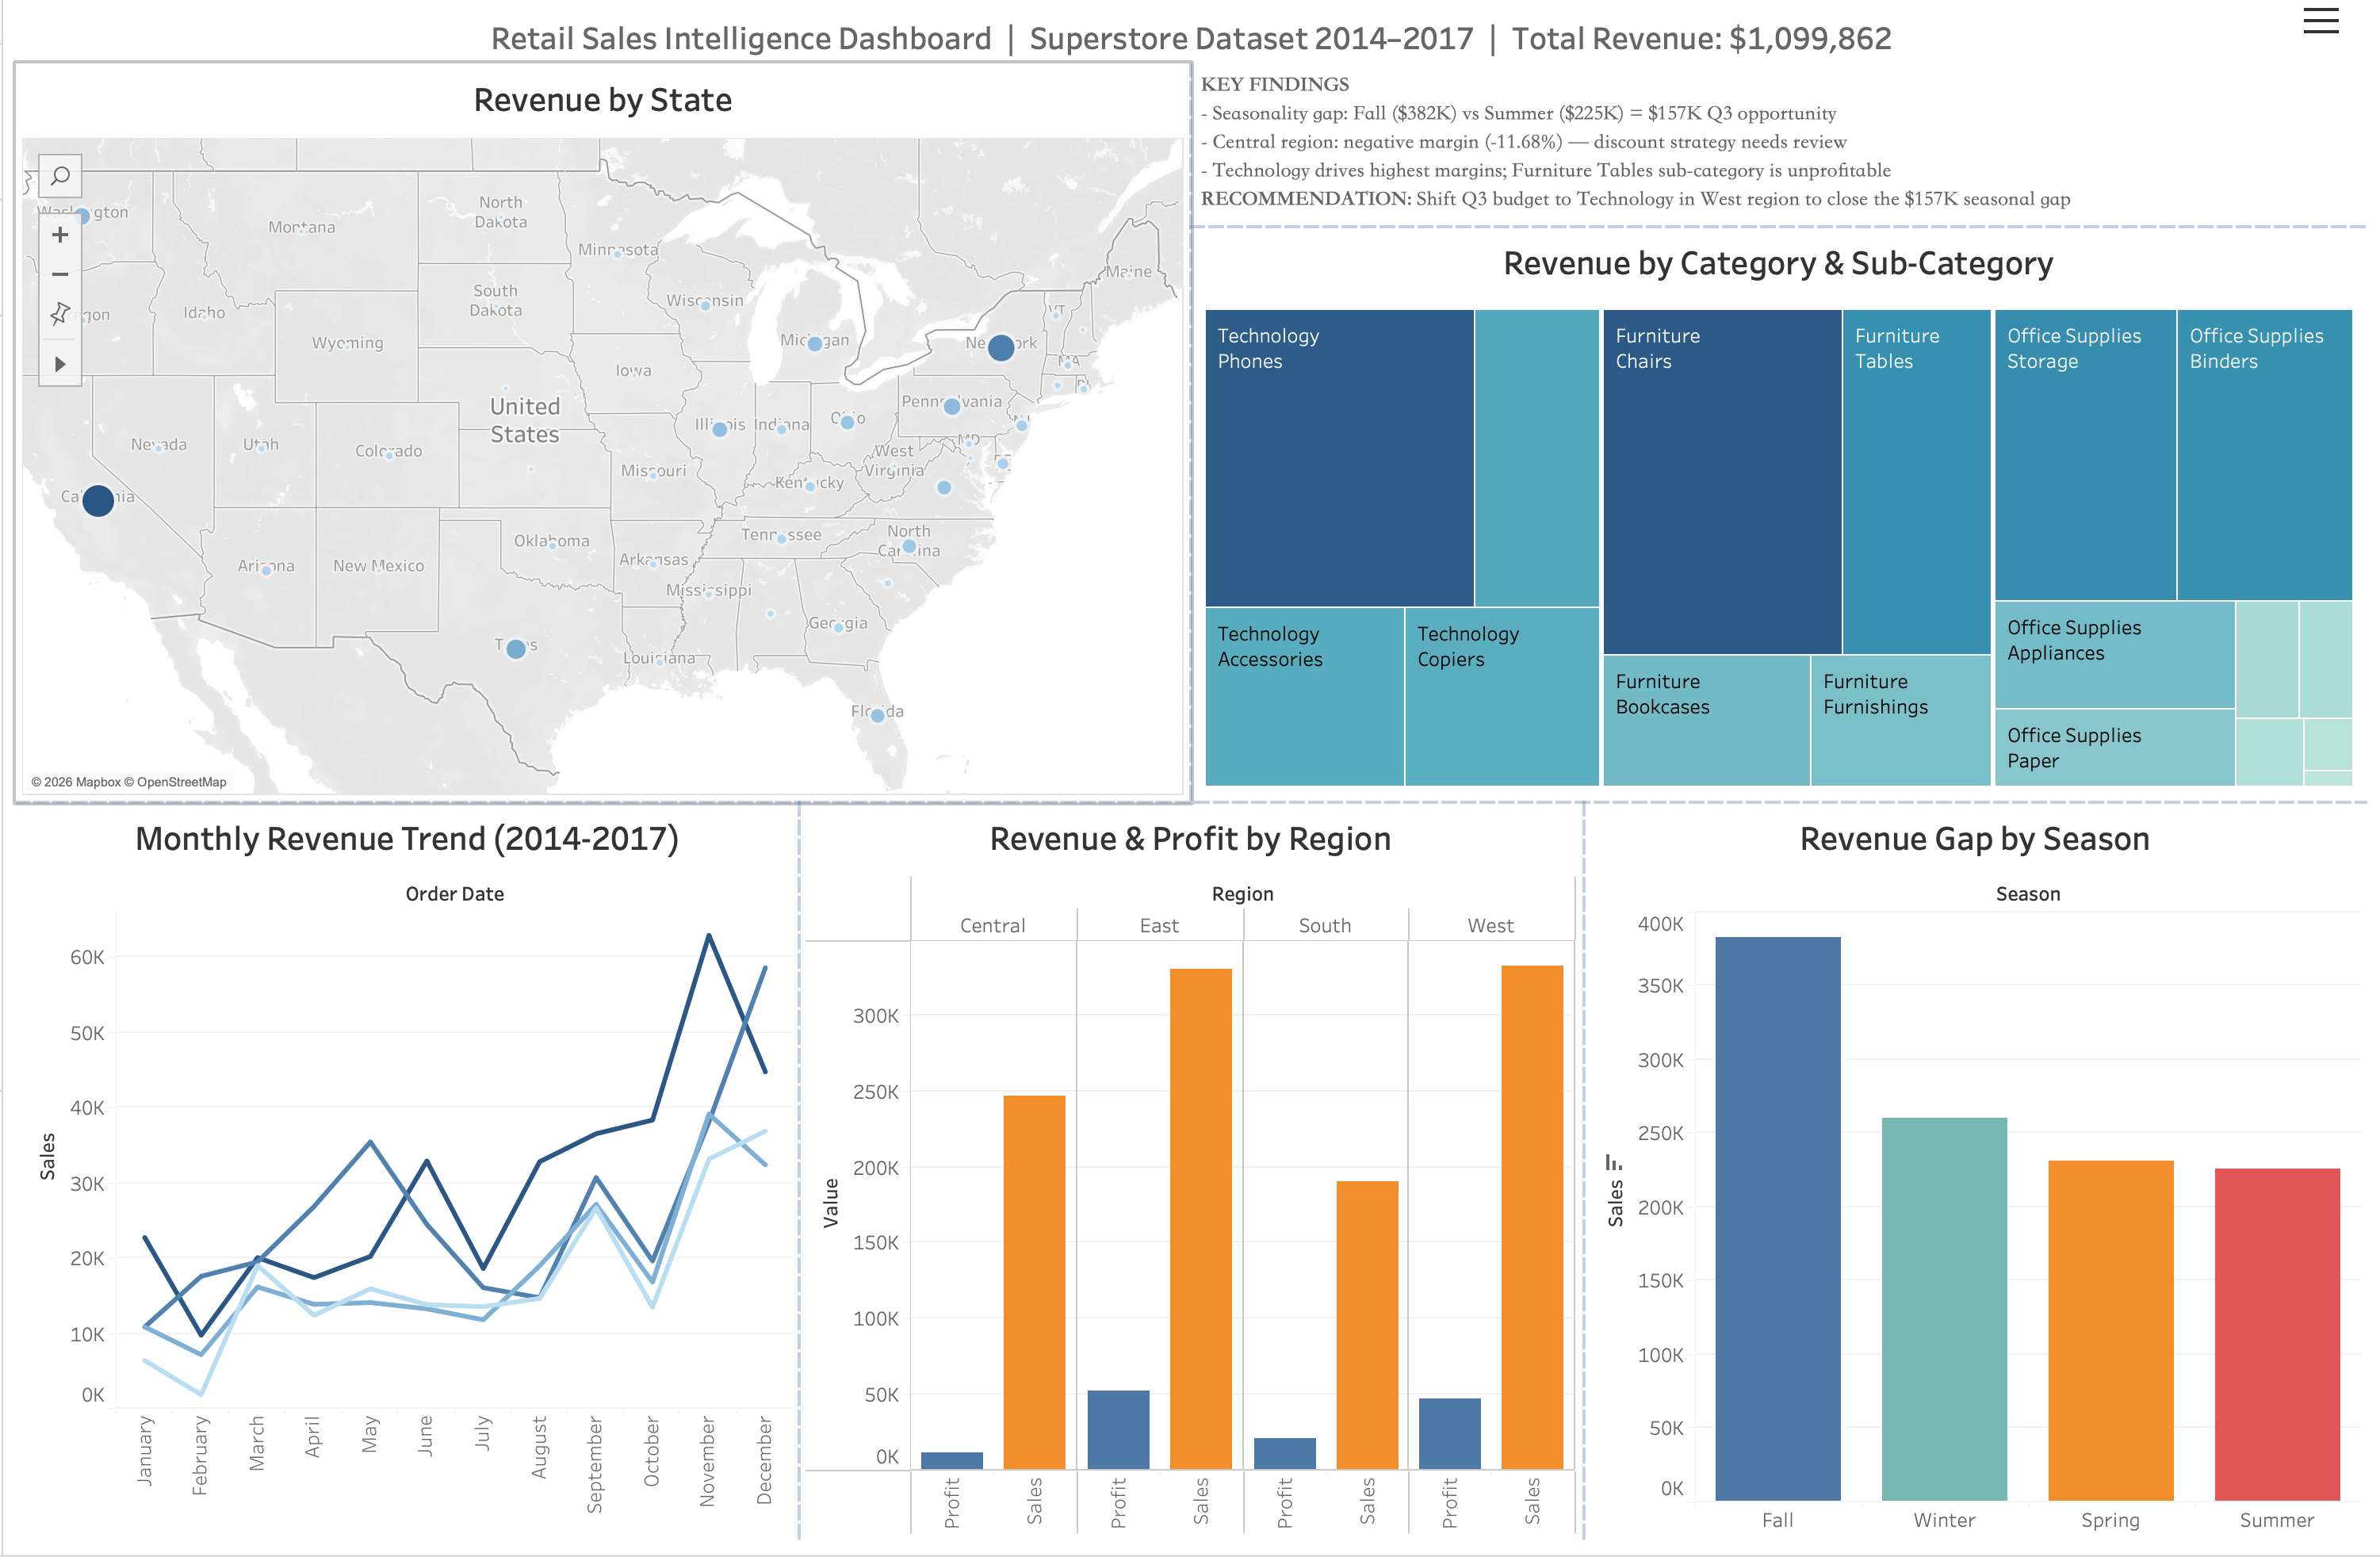

This screenshot's page, from the dashboard's own definition file:
{"tool":"tableau","page":{"name":"Sales Dashboard","canvas":[1000,1000],"units":"permille","ordinal":0},"visuals":[{"type":"dashboard-object","box":[967.3,2,16,24.5]},{"type":"text","box":[8.7,8.4,982.7,33.6]},{"type":"legend","title":"Revenue Map","param":"[federated.1bkvpjp17cmrhz16ckc3t09ctxn9].[sum:sales:qk]","box":[887.9,41.7,106.7,128.4]},{"type":"worksheet","title":"Revenue Map","mark":"Automatic","box":[8.7,42,491.3,474.8]},{"type":"text","box":[500,42,491.3,105]},{"type":"worksheet","title":"Category Analysis","mark":"Automatic","box":[500,146.9,491.3,369.9]},{"type":"legend","title":"Revenue Map","param":"[federated.1bkvpjp17cmrhz16ckc3t09ctxn9].[sum:sales:qk]","box":[887.9,170.2,106.7,66.2]},{"type":"legend","title":"Monthly Trend","param":"[federated.1bkvpjp17cmrhz16ckc3t09ctxn9].[none:order_year:qk]","box":[887.9,236.4,106.7,66.2]},{"type":"legend","title":"Regional Breakdown","param":"[federated.1bkvpjp17cmrhz16ckc3t09ctxn9].[:Measure Names]","box":[887.9,302.7,106.7,67.3]},{"type":"legend","title":"Seasonality Gap","param":"[federated.1bkvpjp17cmrhz16ckc3t09ctxn9].[none:season:nk]","box":[887.9,369.9,106.7,108]},{"type":"worksheet","title":"Monthly Trend","mark":"Automatic","rows":["sales"],"cols":["order_date"],"box":[8.7,516.8,327.5,474.8]},{"type":"worksheet","title":"Regional Breakdown","mark":"Automatic","cols":["region"],"box":[336.2,516.8,327.6,474.8]},{"type":"worksheet","title":"Seasonality Gap","mark":"Bar","rows":["sales"],"cols":["season"],"box":[663.8,516.8,327.6,474.8]}]}

Visuals, with their boxes on the dashboard's canvas, which has no fixed pixel size, in thousandths of its width and height (x1, y1, x2, y2). These are canvas units, not pixel positions in the 2380x1557 screenshot, which may show the page scaled, cropped or inside an application window:
dashboard-object: rect(967, 2, 983, 26)
text: rect(9, 8, 991, 42)
"Revenue Map" legend: rect(888, 42, 995, 170)
"Revenue Map" worksheet: rect(9, 42, 500, 517)
text: rect(500, 42, 991, 147)
"Category Analysis" worksheet: rect(500, 147, 991, 517)
"Revenue Map" legend: rect(888, 170, 995, 236)
"Monthly Trend" legend: rect(888, 236, 995, 303)
"Regional Breakdown" legend: rect(888, 303, 995, 370)
"Seasonality Gap" legend: rect(888, 370, 995, 478)
"Monthly Trend" worksheet: rect(9, 517, 336, 992)
"Regional Breakdown" worksheet: rect(336, 517, 664, 992)
"Seasonality Gap" worksheet (Bar marks): rect(664, 517, 991, 992)
